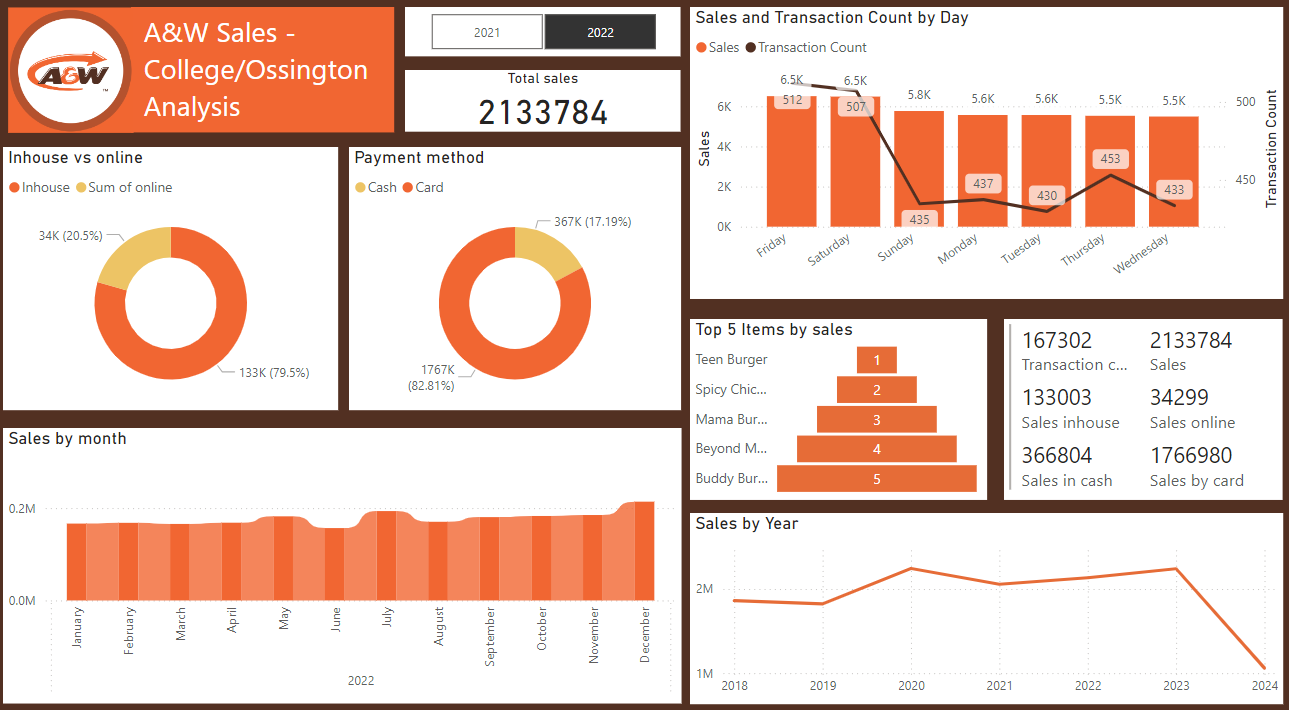

This screenshot's page, from the dashboard's own definition file:
{"tool":"powerbi","page":{"name":"Page 1","canvas":[1280,720],"ordinal":0},"visuals":[{"type":"card","title":"Total sales","fields":{"Values":["Sum(aandw.sales)"]},"box":[404.6,81.7,268.4,60.3],"z":0},{"type":"donutChart","title":"Inhouse vs online","fields":{"Y":["Sum(aandw.inhouse)","Sum(aandw.online)"]},"box":[13.8,156.3,326.3,256.2],"z":1000},{"type":"ribbonChart","title":"Sales by month","fields":{"Y":["Sum(aandw.sales)"],"Category":["aandw.Date.Variation.Date Hierarchy.Year","aandw.Date.Variation.Date Hierarchy.Month"]},"box":[13.8,429.7,659.5,267.7],"z":2000},{"type":"donutChart","title":"Payment method","fields":{"Y":["Sum(aandw.cash)","Sum(aandw.card)"]},"box":[350.4,156.3,322.9,256.2],"z":3000},{"type":"slicer","fields":{"Values":["aandw.Date.Variation.Date Hierarchy.Year"]},"box":[404.6,20.4,268.4,47.7],"z":4000},{"type":"textbox","box":[137.9,20.7,256.2,121.8],"z":5000},{"type":"image","box":[13.8,4.6,132.1,154],"z":6000},{"type":"lineStackedColumnComboChart","fields":{"Category":["aandw.Day"],"Y":["Avg(aandw.sales)"],"Y2":["Avg(aandw.count)"]},"box":[681.8,20.4,576.8,284],"z":7000},{"type":"funnel","title":"Top 5 Items by sales","fields":{"Category":["Topfive.Items"],"Y":["Sum(Topfive.Sales)"]},"box":[681.8,323.9,288.9,176],"z":7001},{"type":"multiRowCard","fields":{"Values":["Sum(aandw.count)","Sum(aandw.sales)","Sum(aandw.inhouse)","Sum(aandw.online)","Sum(aandw.cash)","Sum(aandw.card)"]},"box":[987.2,323.9,271.4,176],"z":7002},{"type":"lineChart","fields":{"Y":["Sum(Sales.Sales)"],"Category":["Sales.Year "]},"box":[681.8,512.6,576.8,185.8],"z":7003}]}

Visuals, with their boxes in screenshot pixels (x1, y1, x2, y2), scaled from the page's 1280x720 canvas onto the 1289x710 screenshot:
"Total sales" card: left=407, top=81, right=678, bottom=140
"Inhouse vs online" donutChart: left=14, top=154, right=342, bottom=407
"Sales by month" ribbonChart: left=14, top=424, right=678, bottom=688
"Payment method" donutChart: left=353, top=154, right=678, bottom=407
slicer - aandw.Date.Variation.Date Hierarchy.Year: left=407, top=20, right=678, bottom=67
textbox: left=139, top=20, right=397, bottom=141
image: left=14, top=5, right=147, bottom=156
lineStackedColumnComboChart - aandw.Day x Avg(aandw.sales): left=687, top=20, right=1267, bottom=300
"Top 5 Items by sales" funnel: left=687, top=319, right=978, bottom=493
multiRowCard - Sum(aandw.count) x Sum(aandw.sales): left=994, top=319, right=1267, bottom=493
lineChart - Sum(Sales.Sales) x Sales.Year : left=687, top=505, right=1267, bottom=689
